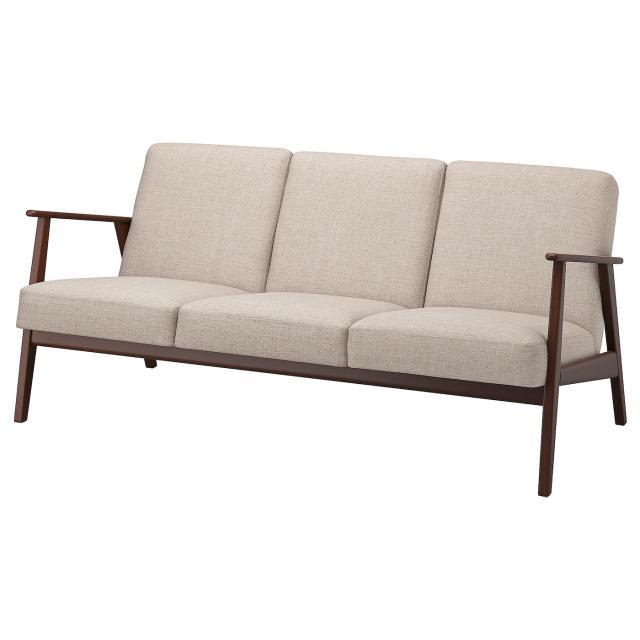sofa: (12, 140, 628, 497)
